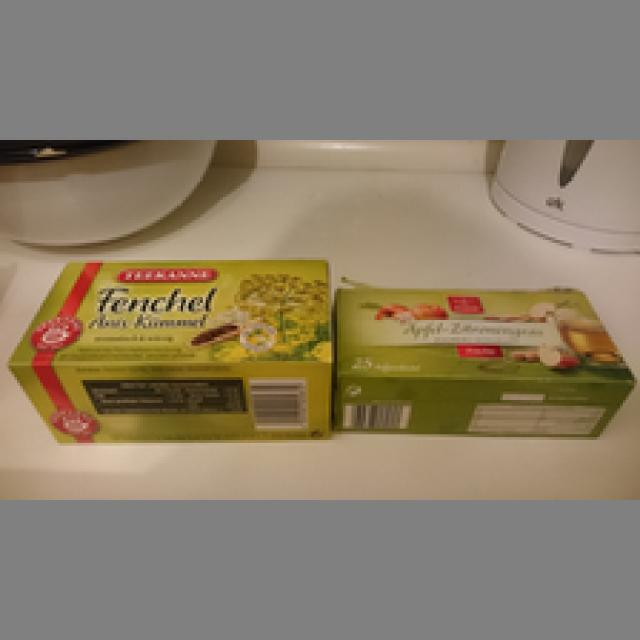groceries: (3, 254, 334, 446), (332, 283, 632, 440)
